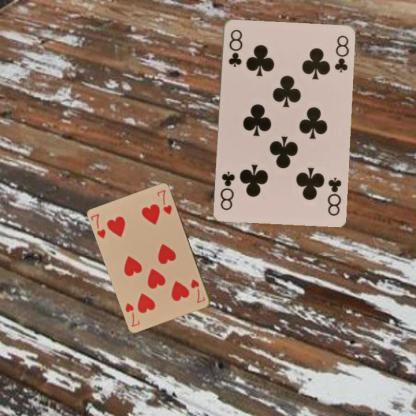7h: (88, 211, 107, 240), (188, 277, 207, 304)
8c: (324, 174, 343, 216), (225, 27, 244, 68)
